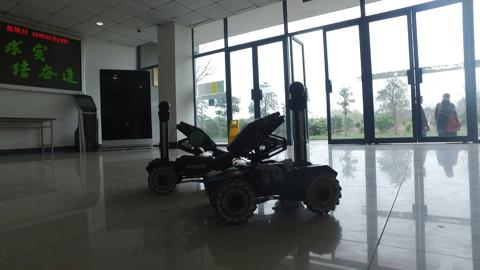chariot: (206, 79, 343, 227), (141, 99, 229, 193)
